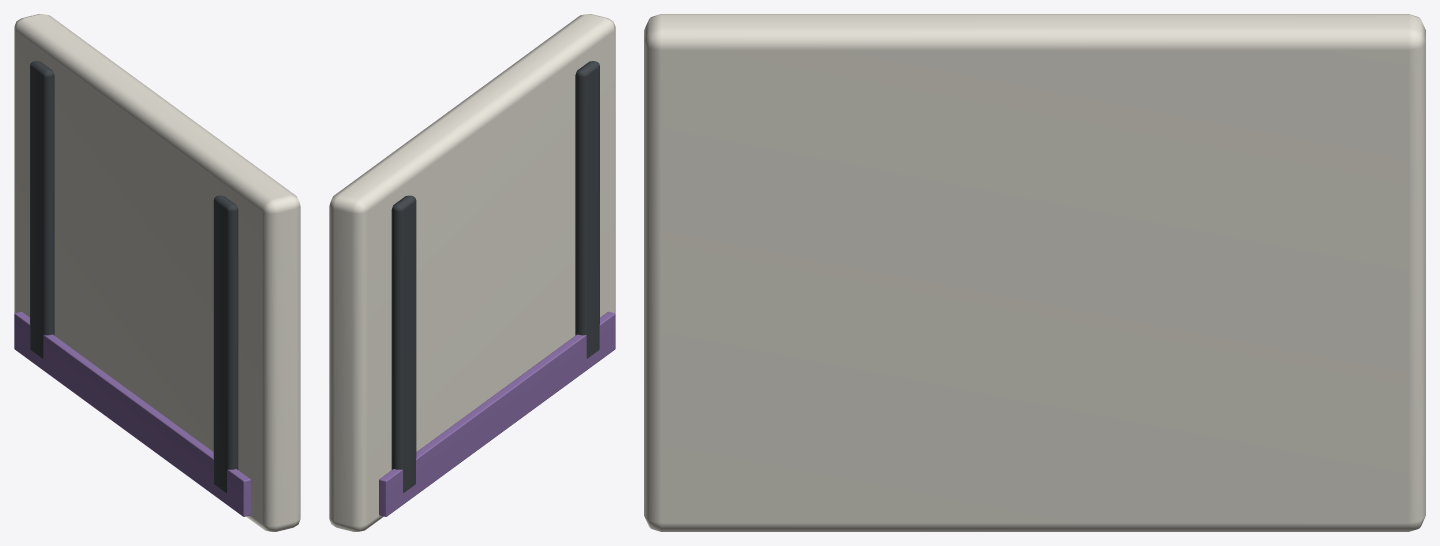
File: SM_NexusRobotics_Ramp.fbx
The picture shows the model from 3 angles, left to right: view 1: azimuth 30°, elevation 25°; view 2: azimuth 150°, elevation 25°; view 3: azimuth 270°, elevation 25°; orthographic projection. The views are drawn at different scales.
Parts seen in each view (by area): view 1: SM_NexusRobotics_Ramp.001; view 2: SM_NexusRobotics_Ramp.001; view 3: SM_NexusRobotics_Ramp.001.
Part boxes in pixels (x1,y1,x2,y2): SM_NexusRobotics_Ramp.001: (14,14,300,531); SM_NexusRobotics_Ramp.001: (329,14,615,531); SM_NexusRobotics_Ramp.001: (644,14,1425,531).
Bounding box in the file's own units: 960 × 9000 × 6400.
